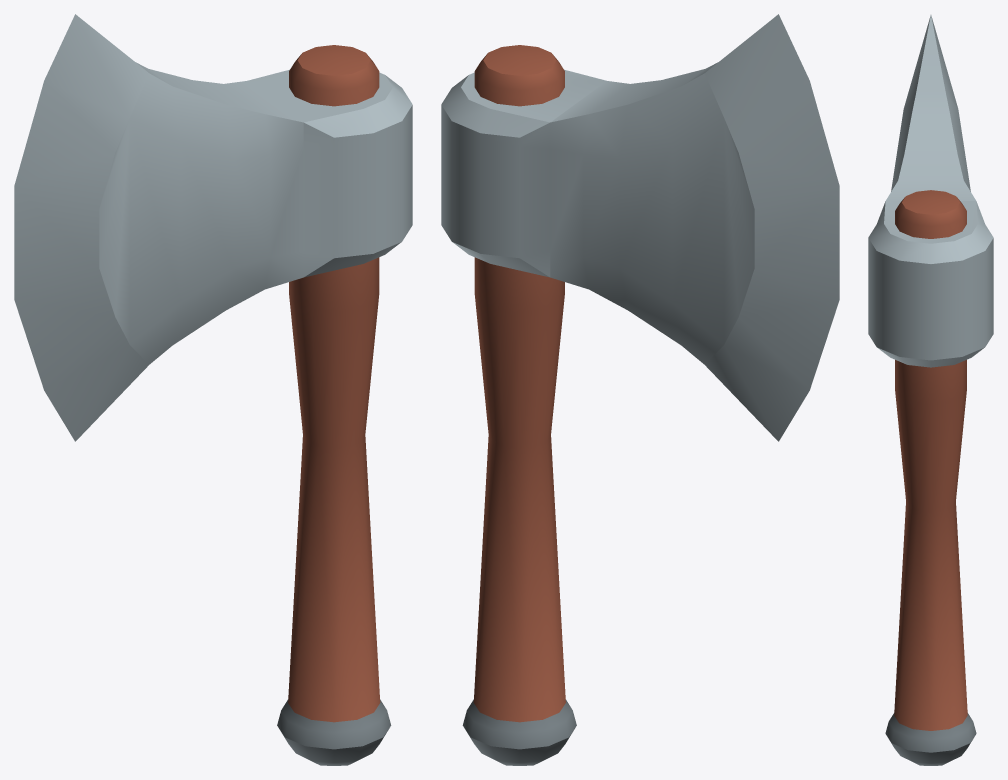
Rendered from axe_uncommon.glb.
The picture shows the model from 3 angles, left to right: view 1: azimuth 30°, elevation 25°; view 2: azimuth 150°, elevation 25°; view 3: azimuth 270°, elevation 25°; orthographic projection. The views are drawn at different scales.
Visible parts, largest first — view 1: axe_uncommon; view 2: axe_uncommon; view 3: axe_uncommon.
Boxes of the visible parts, x1,y1,x2,y2 form: axe_uncommon: (14, 14, 412, 765); axe_uncommon: (441, 14, 839, 765); axe_uncommon: (868, 15, 993, 765).
Size of the model in its own units: 0.0841 by 0.1667 by 0.0295.
